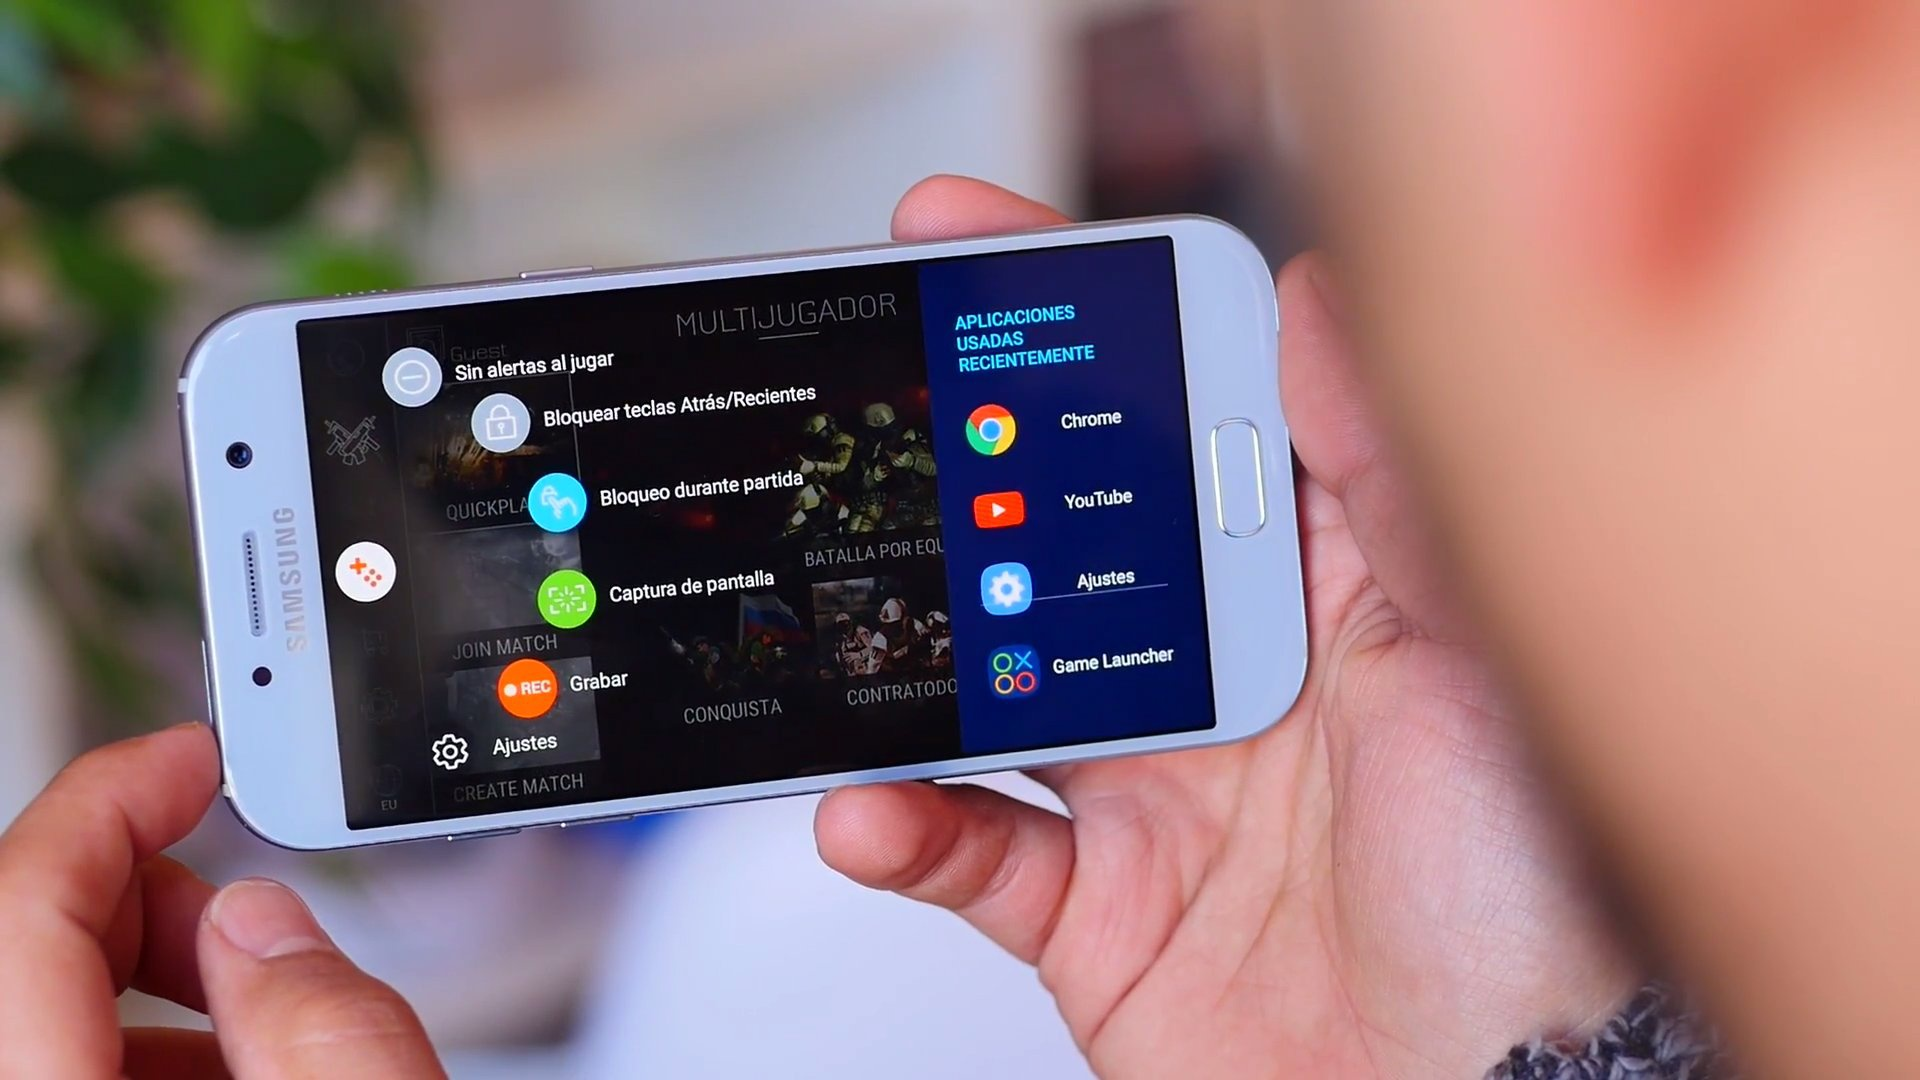smartphone: (175, 212, 1313, 855)
